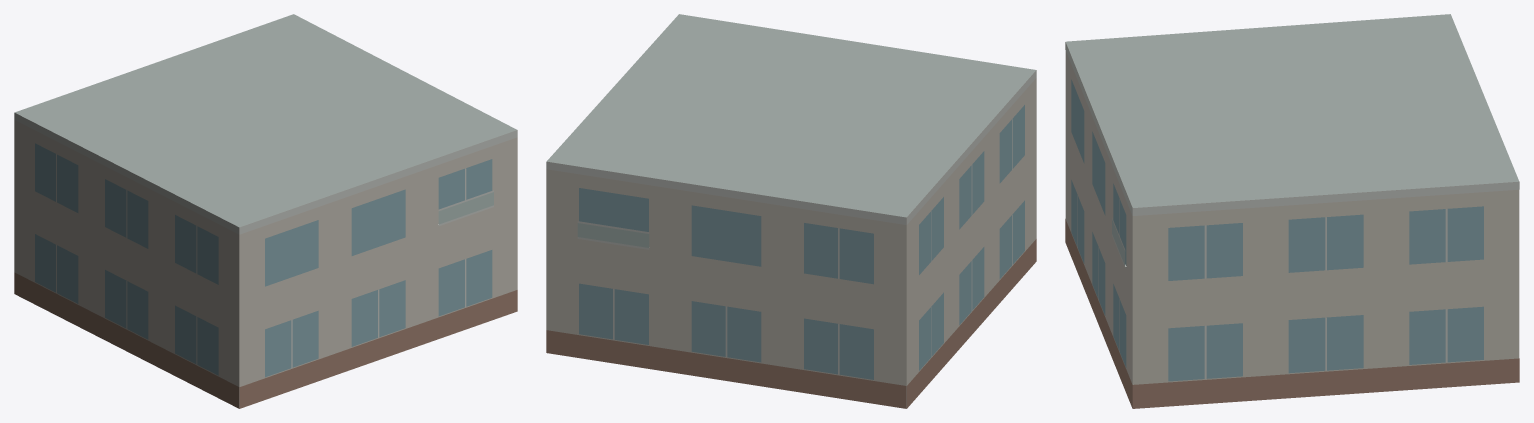
File: survey-upis-32818698.glb
3 views of the same model, side by side, from view 1: azimuth 30°, elevation 25°; view 2: azimuth 150°, elevation 25°; view 3: azimuth 270°, elevation 25° (orthographic). The views are drawn at different scales.
Parts seen in each view (by area): view 1: survey-upis-32818698.tmp; view 2: survey-upis-32818698.tmp; view 3: survey-upis-32818698.tmp.
Part boxes in pixels (x1,y1,x2,y2): survey-upis-32818698.tmp: (14,14,517,408); survey-upis-32818698.tmp: (546,14,1036,408); survey-upis-32818698.tmp: (1065,14,1519,408).
Bounding box in the file's own units: 12.66 × 6.1 × 12.51.
